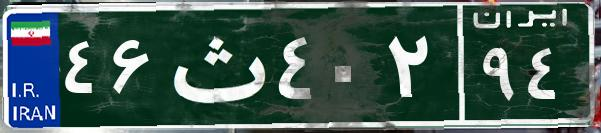0: (330, 28, 385, 110)
2: (385, 28, 445, 110)
4: (273, 28, 330, 110), (57, 26, 110, 107), (525, 38, 570, 115)
6: (110, 28, 158, 105)
9: (475, 38, 525, 113)
ث: (158, 15, 273, 115)
